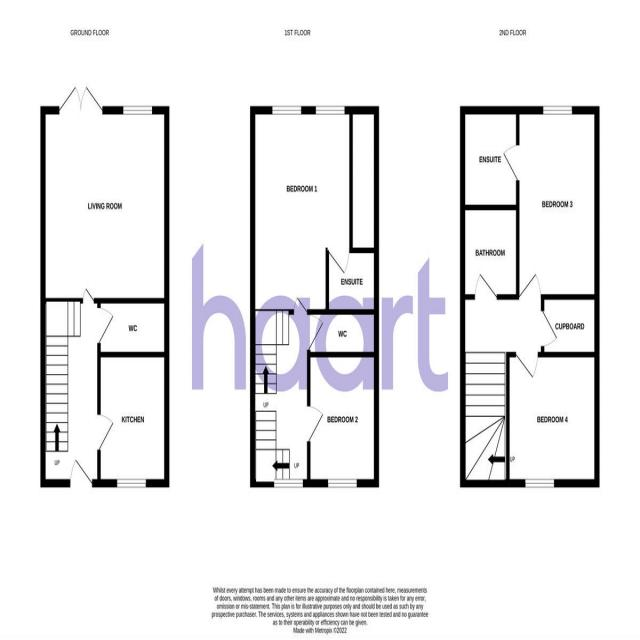DOOR: (69, 457, 93, 488), (502, 143, 520, 182), (306, 405, 324, 444), (515, 351, 539, 380), (518, 271, 542, 300), (474, 272, 498, 301), (307, 313, 325, 351), (97, 306, 114, 345), (97, 413, 114, 451), (328, 250, 351, 276), (293, 296, 308, 315), (82, 286, 95, 303)
DOUBLE DOOR: (54, 80, 104, 114)
ROOM: (40, 84, 170, 304), (250, 106, 354, 315), (501, 105, 600, 301), (506, 351, 600, 488), (97, 351, 170, 488), (307, 352, 379, 488)
WINDOW: (327, 477, 358, 489), (542, 105, 573, 116), (116, 478, 147, 489), (122, 105, 153, 116), (273, 478, 304, 488), (525, 478, 555, 488), (272, 105, 302, 115), (315, 105, 345, 115)
